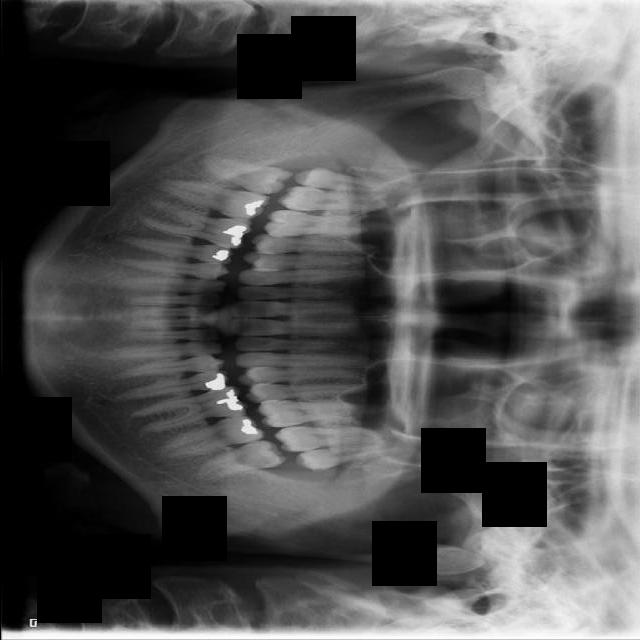3M ESPE Implant: (294, 165, 409, 199)
52: (212, 402, 268, 456), (219, 179, 273, 234), (205, 206, 255, 258), (199, 384, 249, 422), (190, 369, 229, 393), (196, 244, 233, 266)
73: (56, 594, 76, 596)
BioHorizons Implant: (272, 420, 384, 454)
BioLife Implant: (292, 438, 402, 474)
Biomet 3i Implant: (186, 435, 288, 485)
Blue Sky Bio Implant: (154, 409, 266, 462)
Caries: (275, 184, 401, 217)
Implant: (152, 177, 270, 225)
Keystone Dental Implant: (193, 151, 294, 201)
